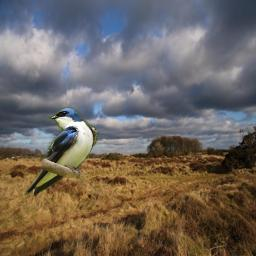Swallow: (24, 107, 98, 197)
